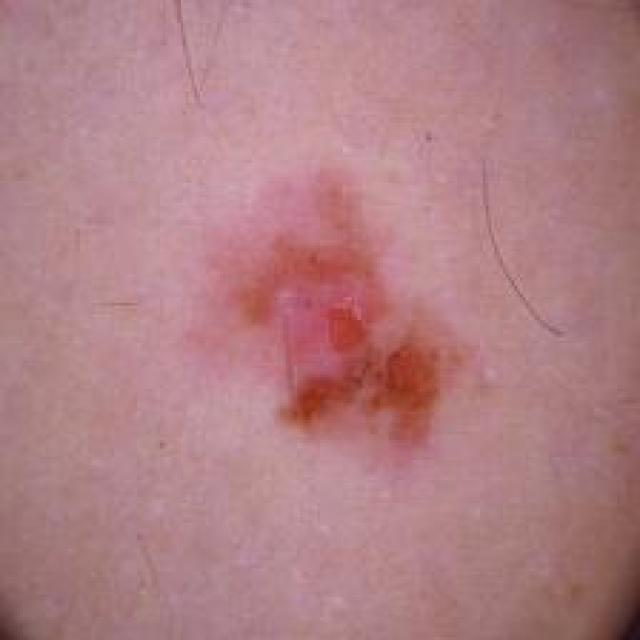Cancer: (190, 158, 476, 502)
